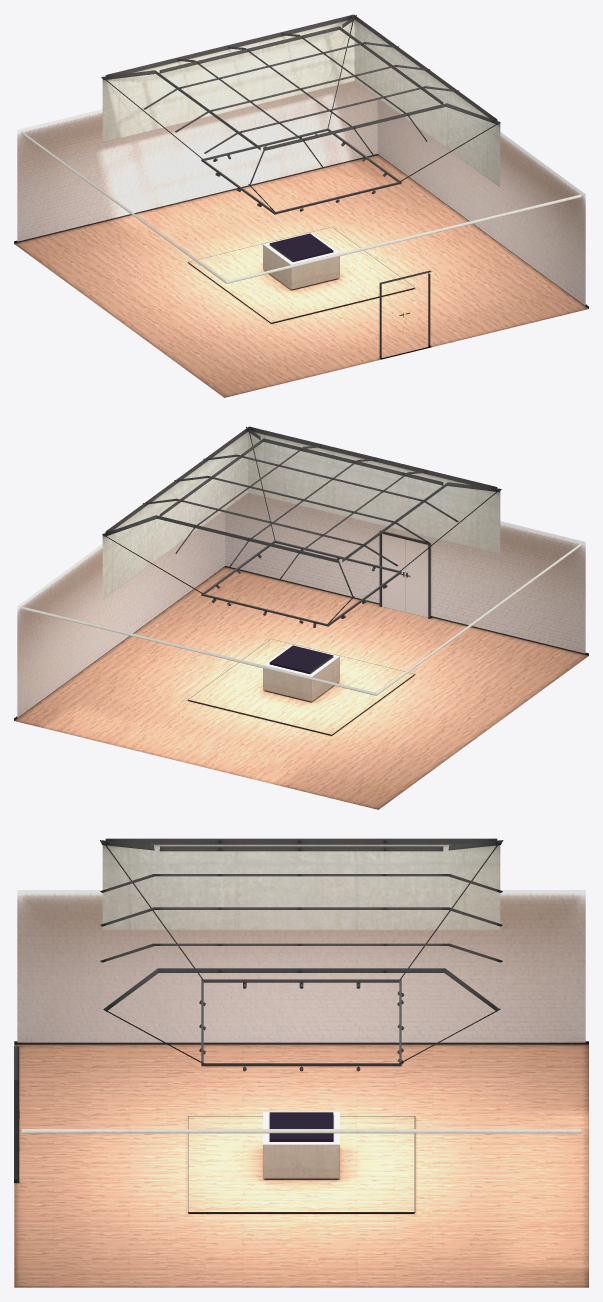
The model's file is vr_gallery.glb.
3 views of the same model, one above another, from view 1: azimuth 30°, elevation 25°; view 2: azimuth 150°, elevation 25°; view 3: azimuth 270°, elevation 25° (orthographic). The views are drawn at different scales.
Visible parts, largest first — view 1: VR_Gallery; view 2: VR_Gallery; view 3: VR_Gallery.
Part boxes in pixels (x1=…): VR_Gallery: x1=14, y1=14, x2=588, y2=397; VR_Gallery: x1=14, y1=426, x2=588, y2=809; VR_Gallery: x1=14, y1=838, x2=588, y2=1287.
Size of the model in its own units: 10.12 by 5.05 by 10.12.
2 materials, 1 textured.
